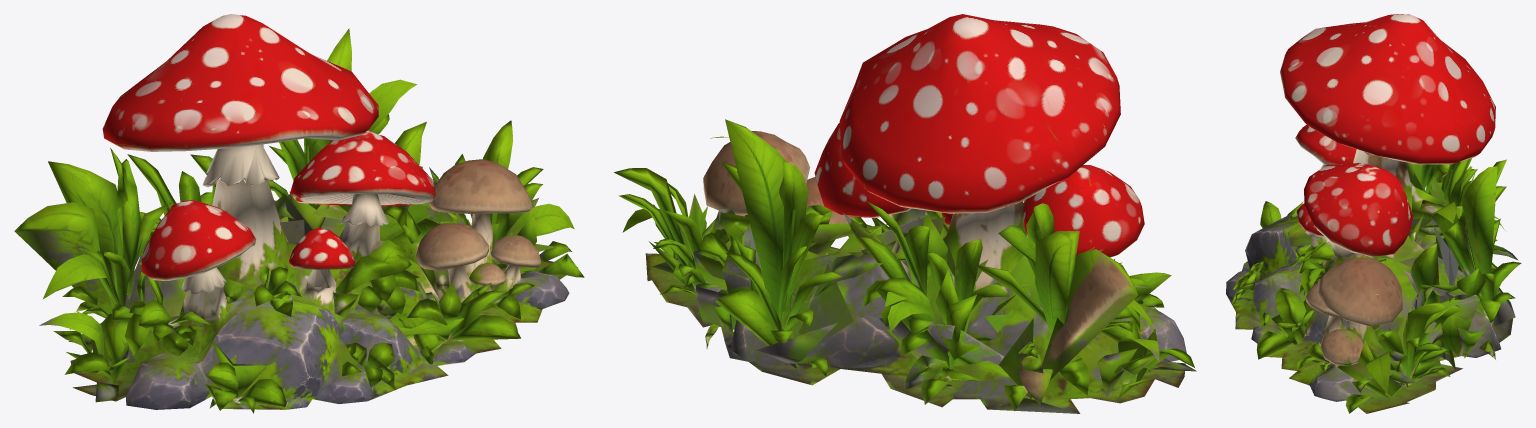
The model's file is Meshy_AI_Enchanted_Mushroom_Gr_1005034637_texture.glb.
3 renders of one model, left to right at view 1: azimuth 30°, elevation 25°; view 2: azimuth 150°, elevation 25°; view 3: azimuth 270°, elevation 25°, orthographic. The views are drawn at different scales.
Bounding box in the file's own units: 0.9565 × 0.5605 × 0.5552.
1 material, 1 textured.
